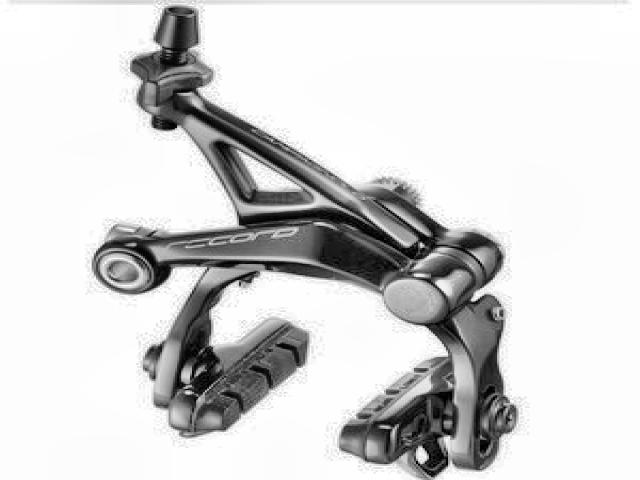rim_brake: (90, 3, 521, 479)
